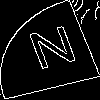N: (24, 25, 84, 80)
